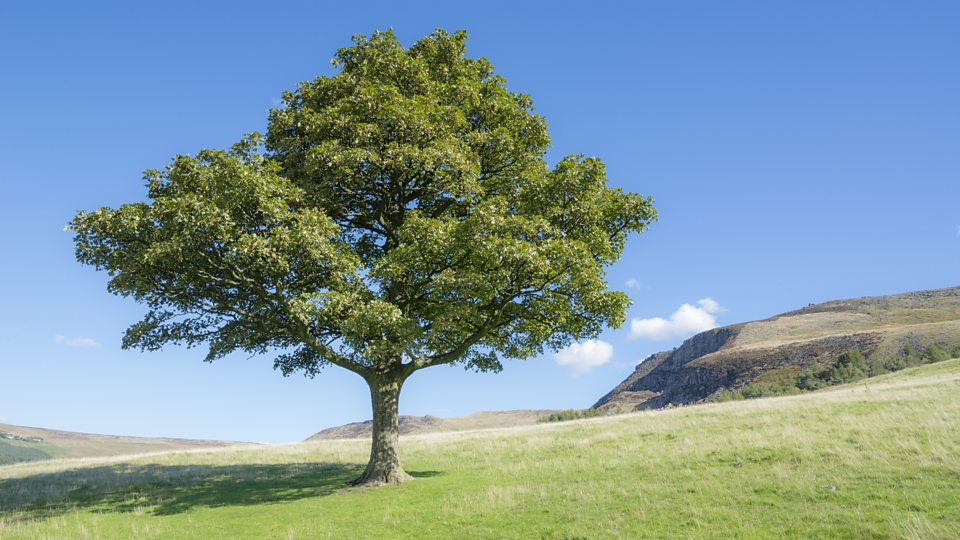grass: (1, 391, 954, 538)
tree: (350, 367, 414, 489)
